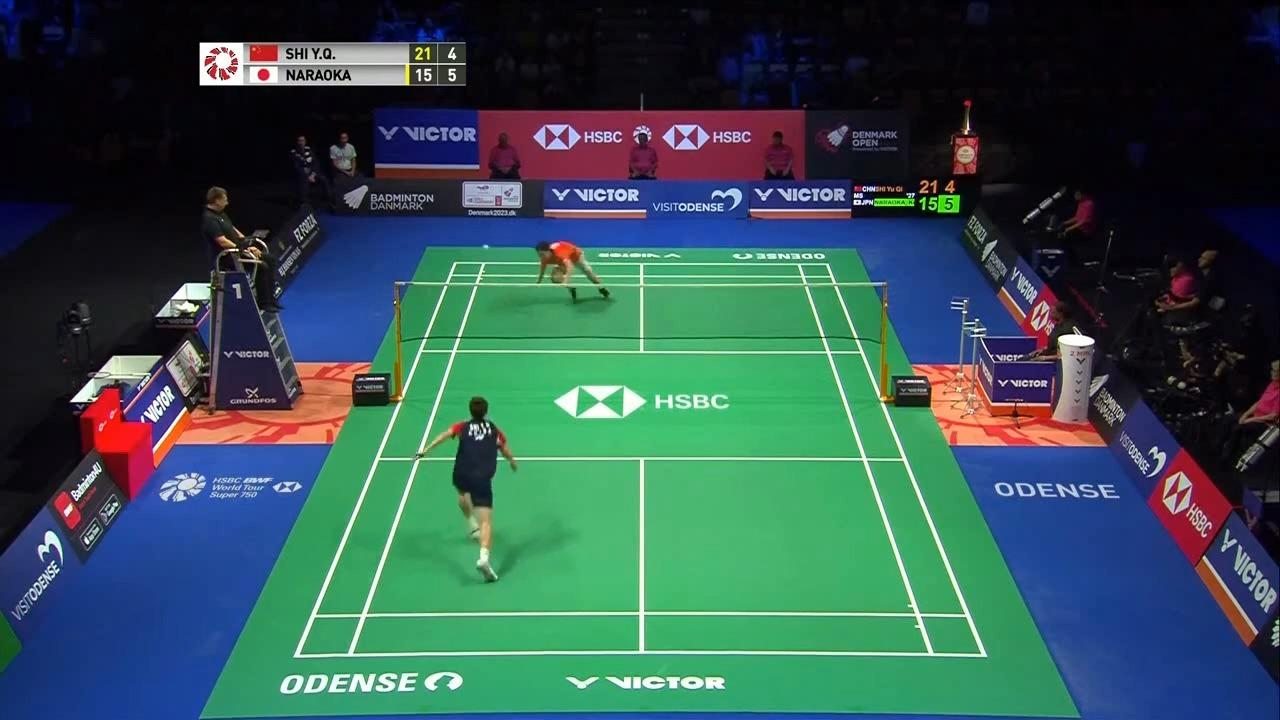shuttle: (480, 239, 490, 255)
